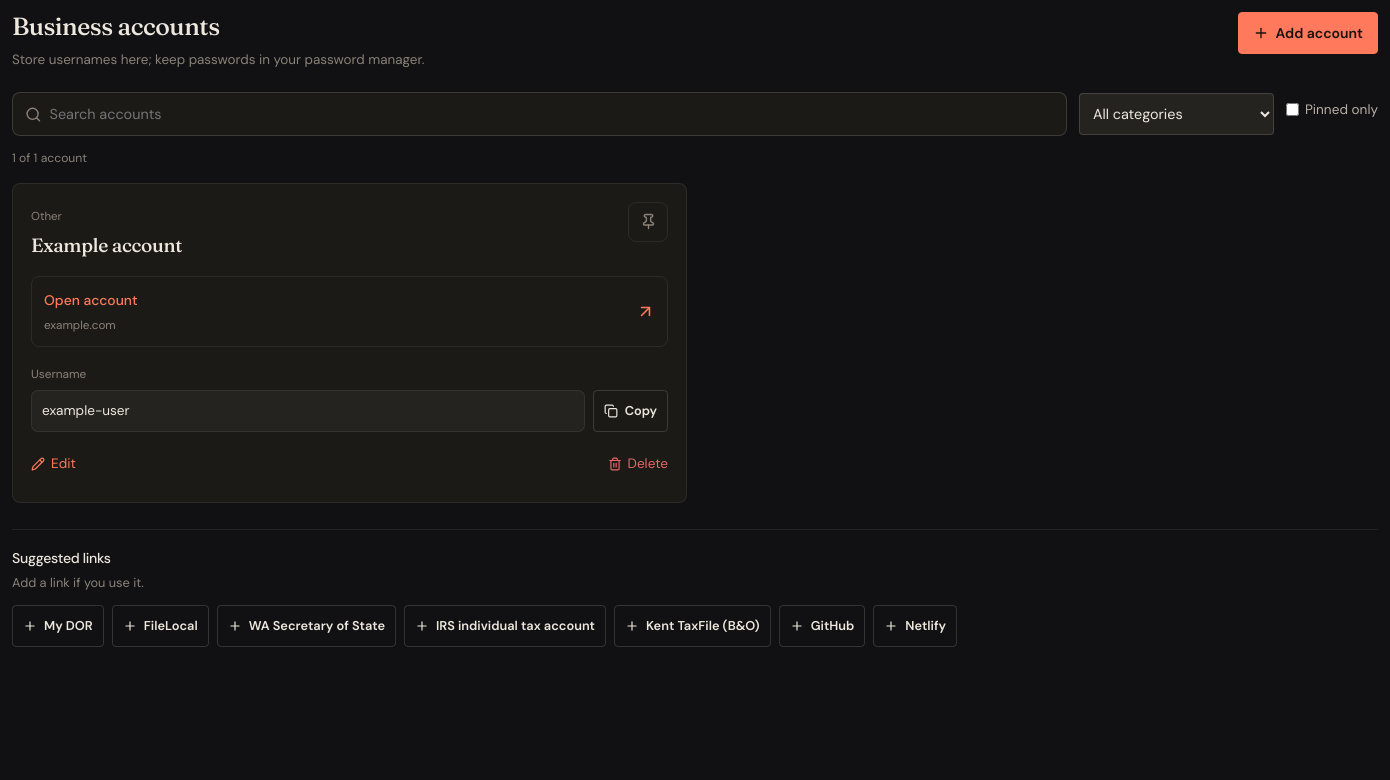
private directory actions › clipboard failure selects the username for manual copying and reports the fallback
Click the button with aria-label "Copy Example account username".
click(630, 411)  # box left=593, top=390, right=668, bottom=432
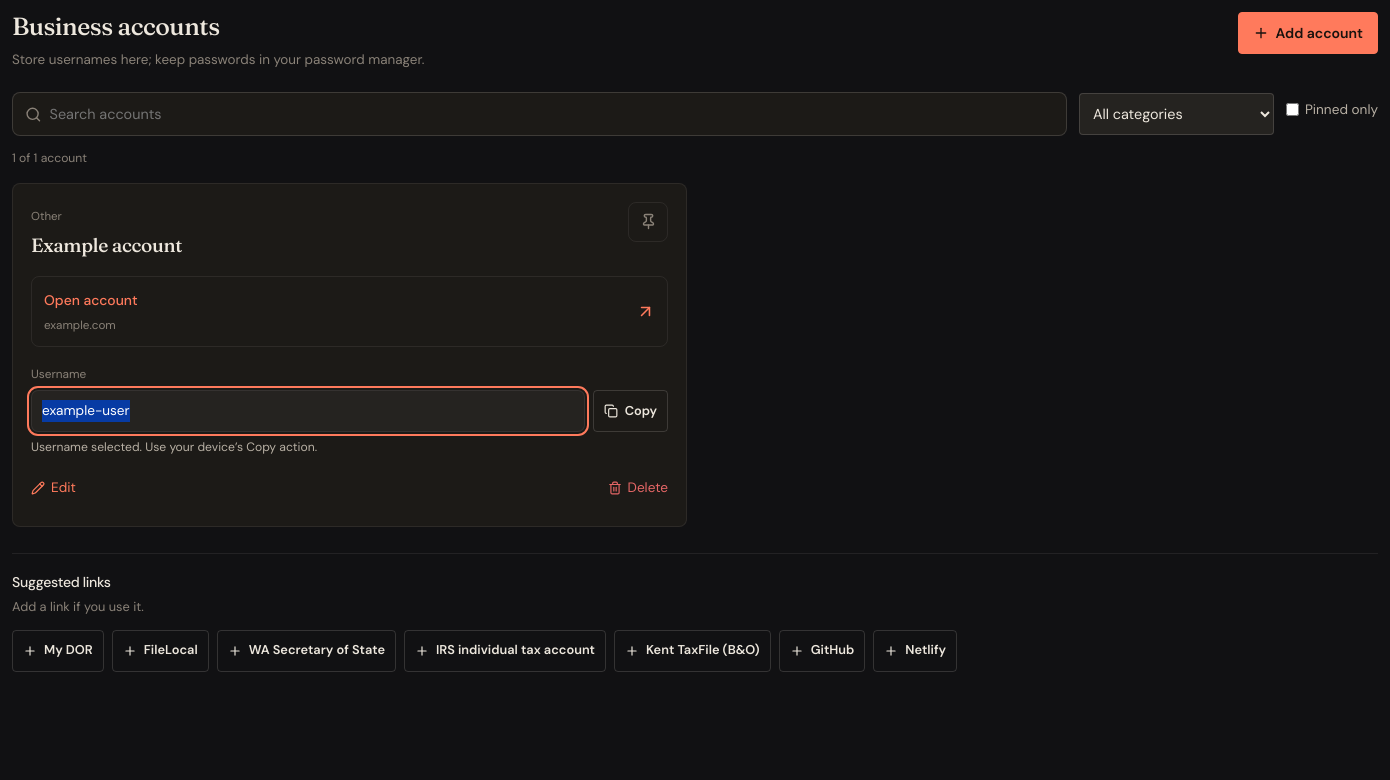
Now the message "Username selected. Use your device’s Copy action." is shown, box left=31, top=439, right=317, bottom=455
